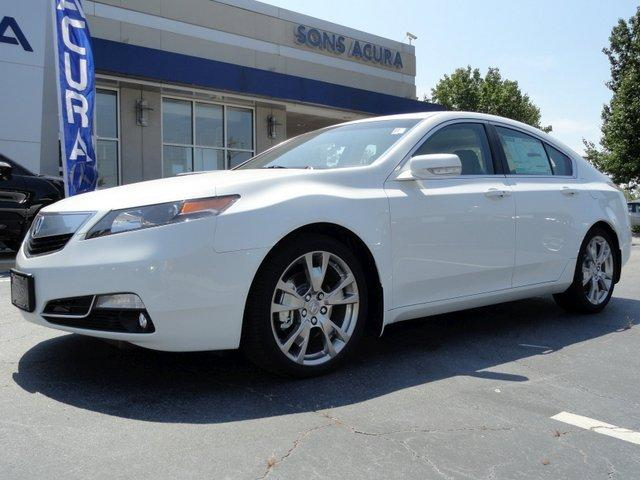car: (9, 111, 634, 388)
